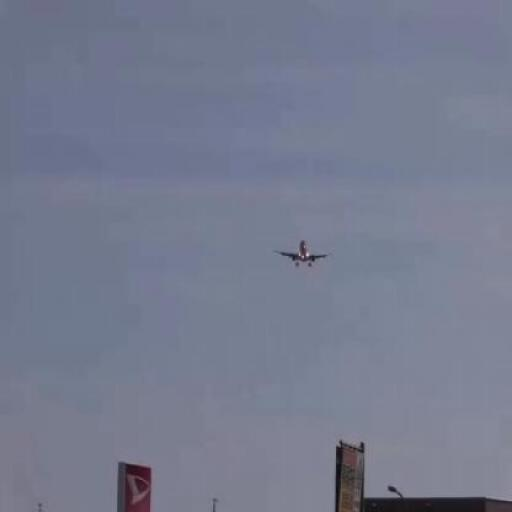aircraft: (274, 240, 328, 267)
